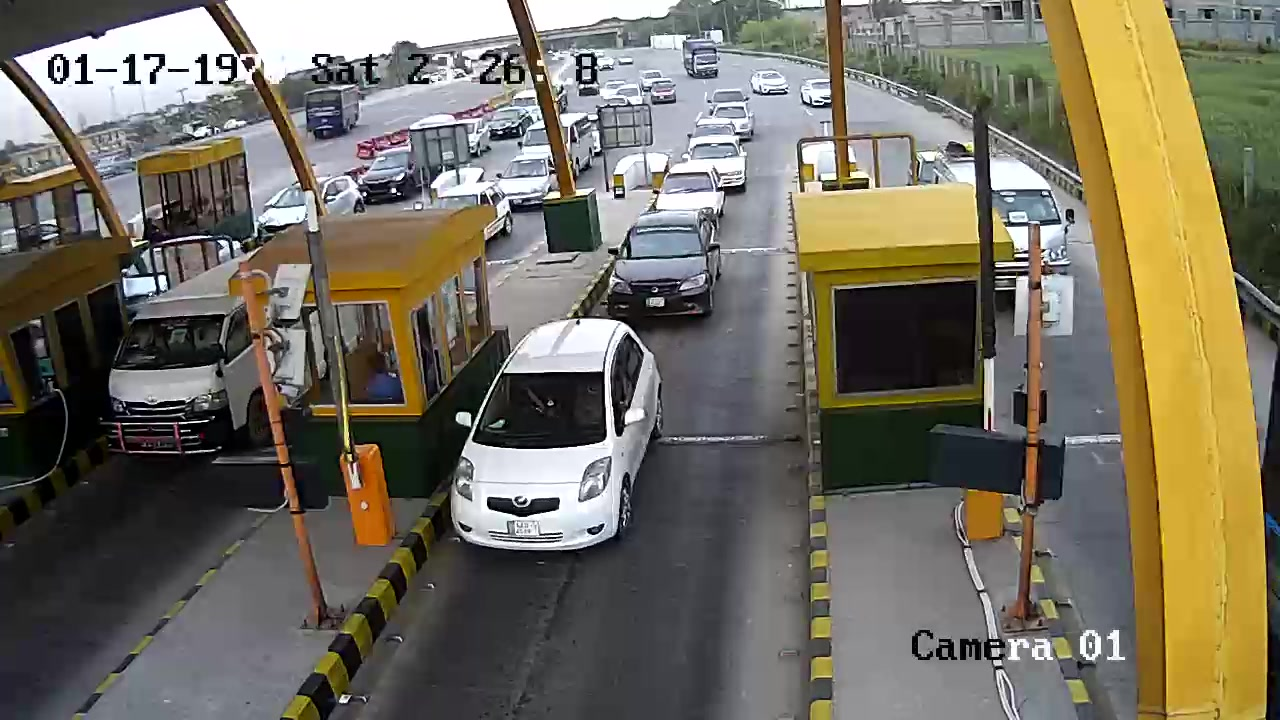F1: (454, 329, 665, 569), (602, 211, 721, 331)
